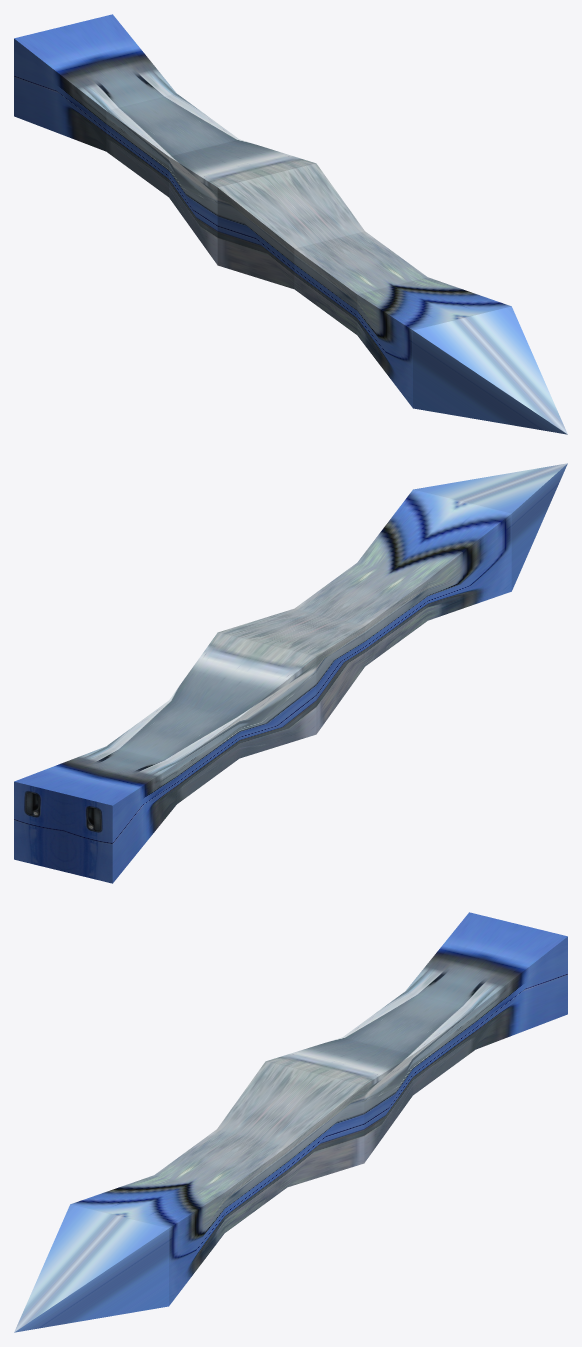
The picture shows the model from 3 angles, top to bottom: view 1: azimuth 30°, elevation 25°; view 2: azimuth 150°, elevation 25°; view 3: azimuth 330°, elevation 25°; orthographic projection.
Visible parts, largest first — view 1: Spike.003_Cube.044; view 2: Spike.003_Cube.044; view 3: Spike.003_Cube.044.
Part boxes in pixels (x1,y1,x2,y2): Spike.003_Cube.044: (14,14,567,434); Spike.003_Cube.044: (14,463,567,883); Spike.003_Cube.044: (14,912,567,1332).
Size of the model in its own units: 1.39 by 1.05 by 12.34.
